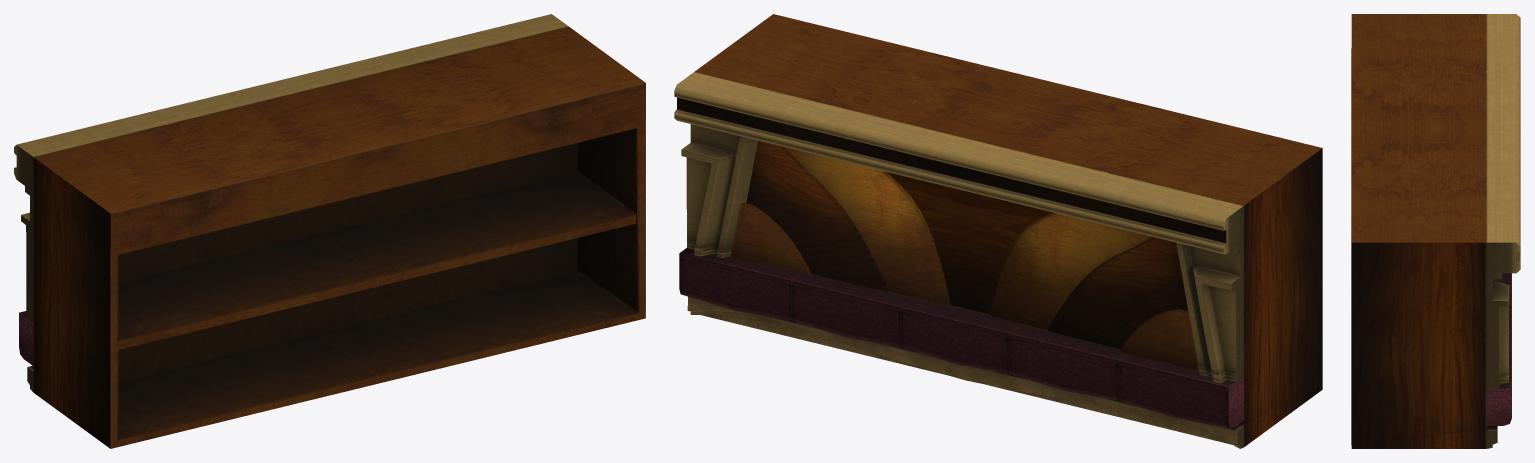
The model's file is EDU_Restaurant_barcounterStraight256.obj.
3 views of the same model, side by side, from view 1: azimuth 30°, elevation 25°; view 2: azimuth 150°, elevation 25°; view 3: azimuth 270°, elevation 25° (orthographic). The views are drawn at different scales.
Parts seen in each view (by area): view 1: EDU_Restaurant_barcounterStraight256; view 2: EDU_Restaurant_barcounterStraight256; view 3: EDU_Restaurant_barcounterStraight256.
Part boxes in pixels (<box>): EDU_Restaurant_barcounterStraight256: <box>14,14,645,448</box>; EDU_Restaurant_barcounterStraight256: <box>674,14,1322,448</box>; EDU_Restaurant_barcounterStraight256: <box>1351,14,1520,448</box>.
Bounding box in the file's own units: 256 × 108 × 80.14.
1 material, 1 textured.
